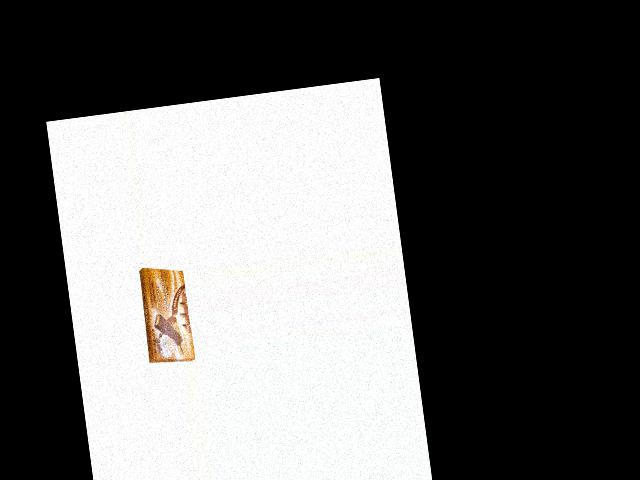chocolate: (136, 260, 196, 366)
